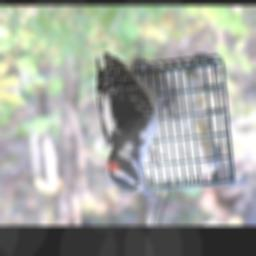Woodpecker: (96, 52, 180, 201)
